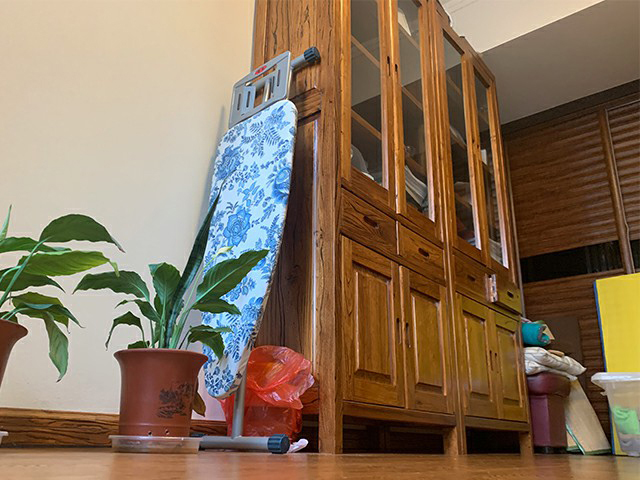cabinet: (292, 166, 530, 455)
